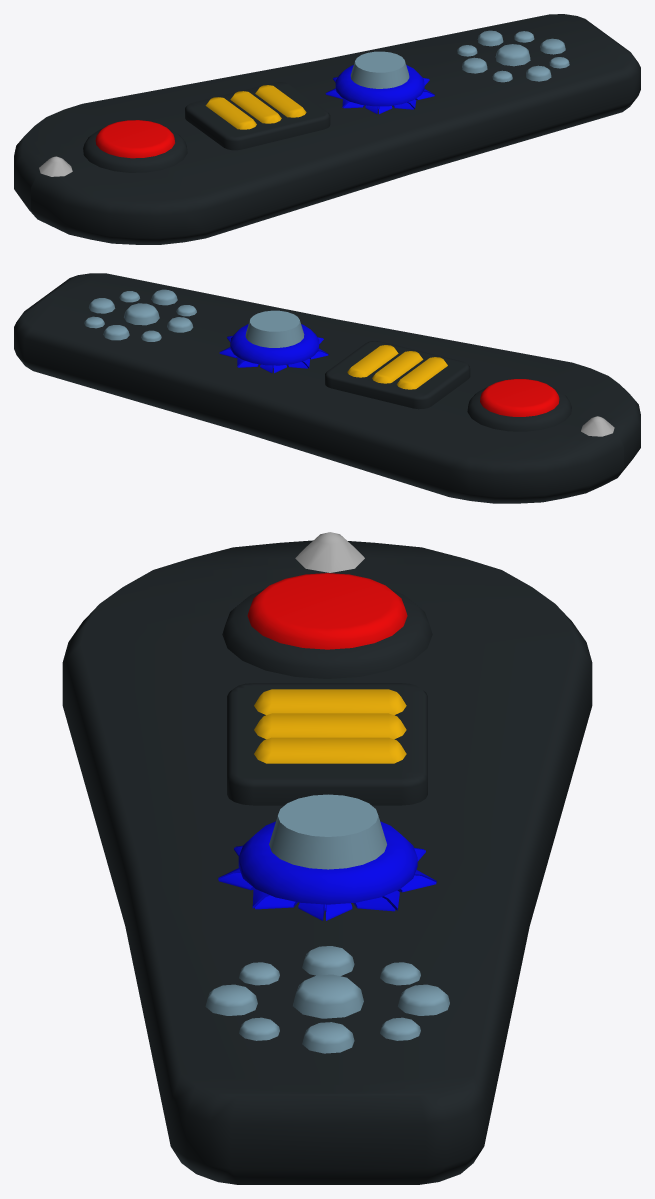
Rendered from SM_TV_Console.fbx.
The picture shows the model from 3 angles, top to bottom: view 1: azimuth 30°, elevation 25°; view 2: azimuth 150°, elevation 25°; view 3: azimuth 270°, elevation 25°; orthographic projection. The views are drawn at different scales.
Visible parts, largest first — view 1: SM_TV_Console; view 2: SM_TV_Console; view 3: SM_TV_Console.
Part boxes in pixels (left/top/right/bottom): SM_TV_Console: left=14, top=14, right=640, bottom=244; SM_TV_Console: left=14, top=273, right=640, bottom=503; SM_TV_Console: left=62, top=532, right=592, bottom=1184.
Size of the model in its own units: 83.66 by 10.06 by 32.89.
